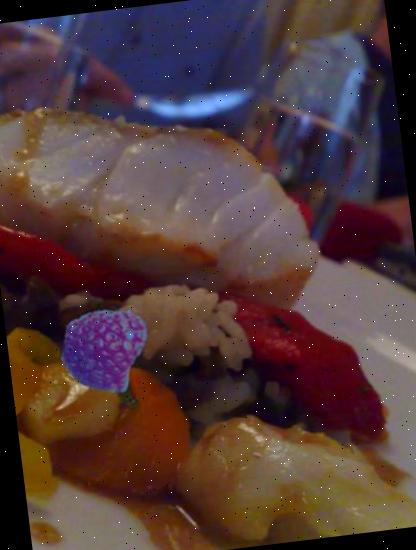Raspberry: (55, 300, 151, 396)
